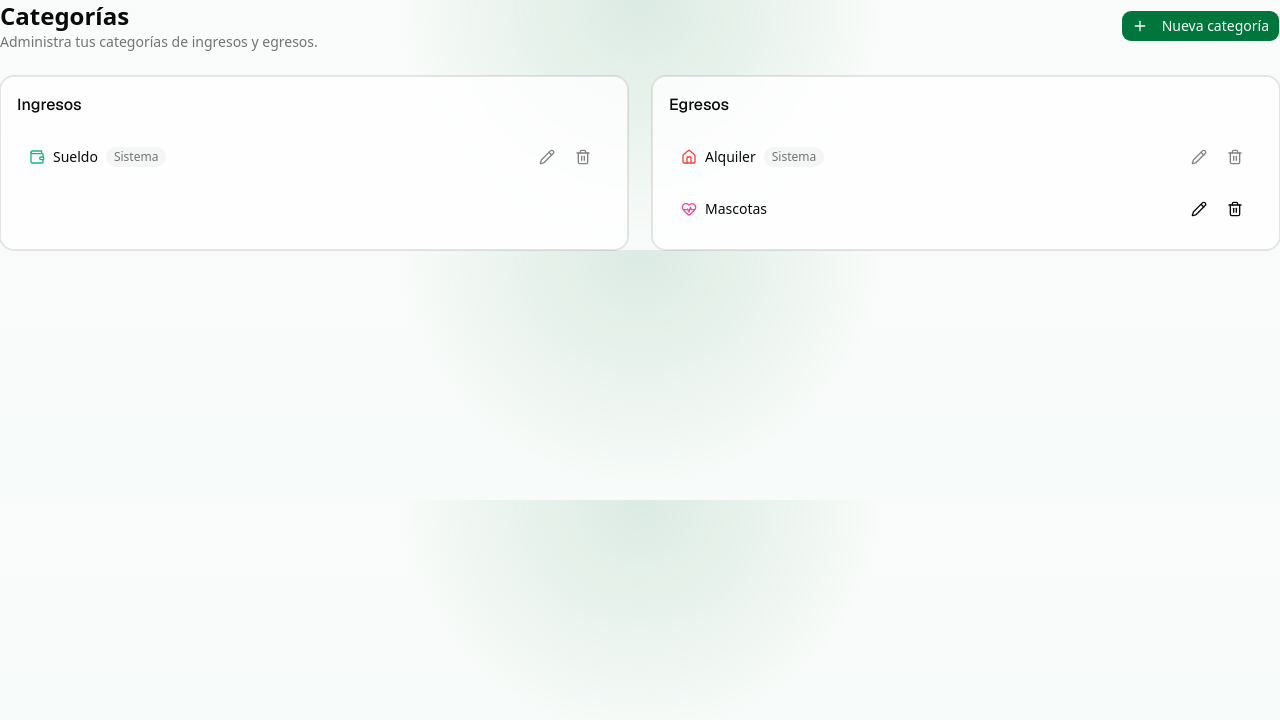
Test: CategoriesPage › abre la confirmación de borrado y muestra el error del servidor al confirmar
expect the list item "Mascotas" is shown: met, box [669, 185, 1263, 233]
Click the button named "Borrar Mascotas".
click(1235, 209)  # box [1219, 193, 1251, 225]
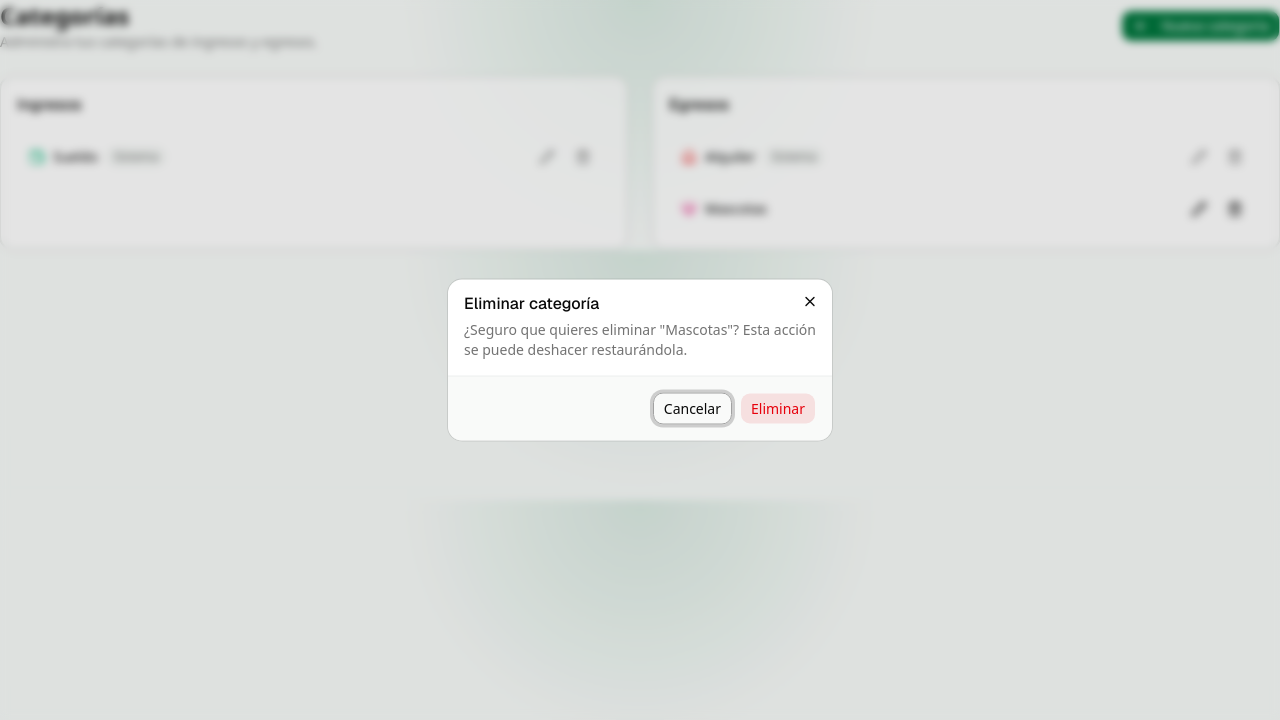
expect the dialog shows "¿Seguro que quieres eliminar \"Mascotas\"?": met, box [464, 320, 816, 358]
Click the button "Eliminar".
click(778, 408)  # box [740, 392, 816, 424]
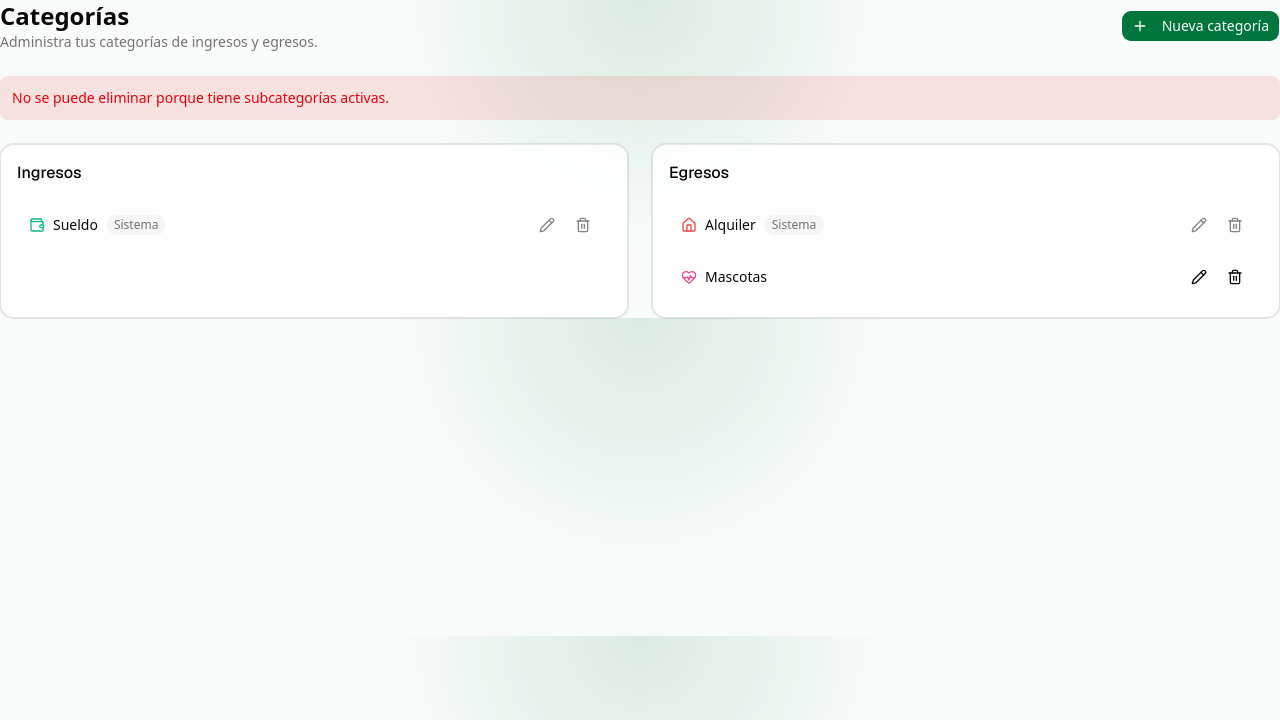
expect the message reads "No se puede eliminar porque tiene subcategorías activas.": met, box [12, 88, 389, 107]
